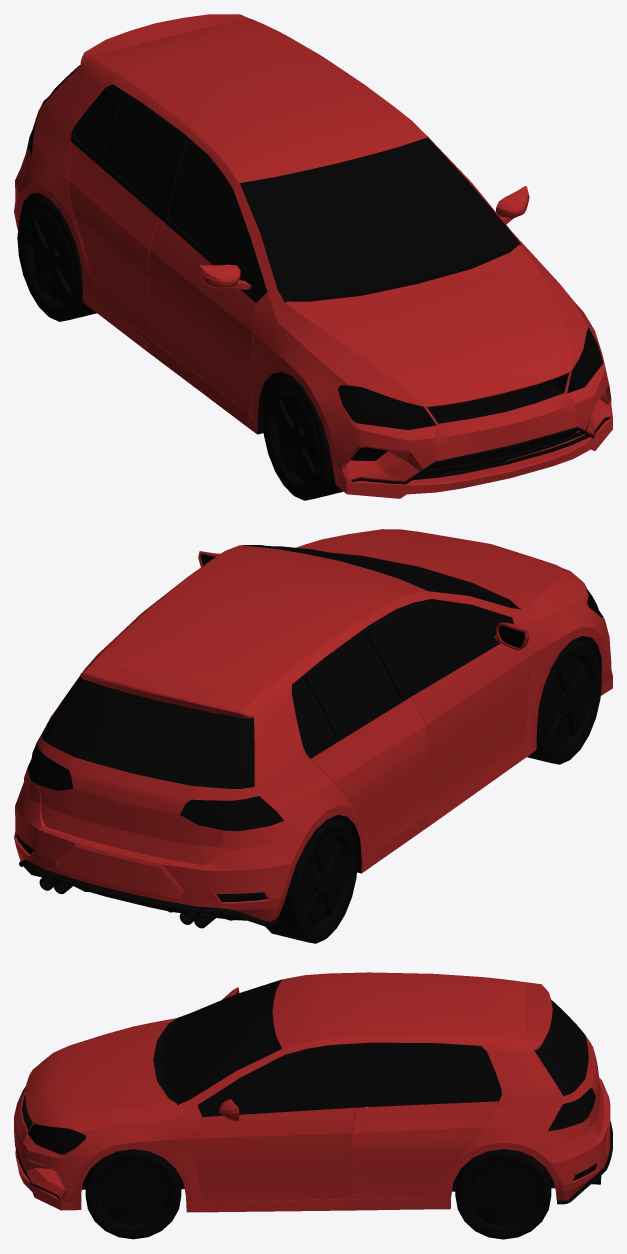
File: Golfu.fbx
3 views of the same model, one above another, from view 1: azimuth 30°, elevation 25°; view 2: azimuth 150°, elevation 25°; view 3: azimuth 270°, elevation 25° (orthographic). The views are drawn at different scales.
Parts seen in each view (by area): view 1: group1_pCylinder5, pCylinder3, pCylinder4; view 2: group1_pCylinder5, pCylinder4, pCylinder3; view 3: group1_pCylinder5, pCylinder1, pCylinder2.
Boxes of the visible parts, x1,y1,x2,y2 form: group1_pCylinder5: (14,14,612,498); pCylinder3: (262,375,343,500); pCylinder4: (17,196,96,321); group1_pCylinder5: (14,529,612,928); pCylinder4: (265,818,357,943); pCylinder3: (527,639,601,764); group1_pCylinder5: (14,972,612,1212); pCylinder1: (455,1149,551,1239); pCylinder2: (85,1149,181,1239).
Bounding box in the file's own units: 17.87 × 12.88 × 37.27.
